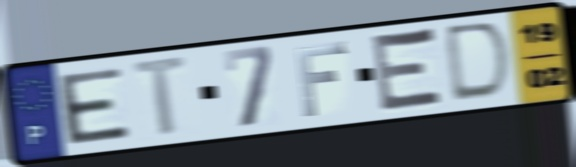7: (221, 42, 276, 132)
D: (444, 19, 515, 106)
E: (370, 25, 448, 116), (54, 64, 134, 147)
F: (292, 40, 351, 120)
T: (128, 53, 196, 141)
